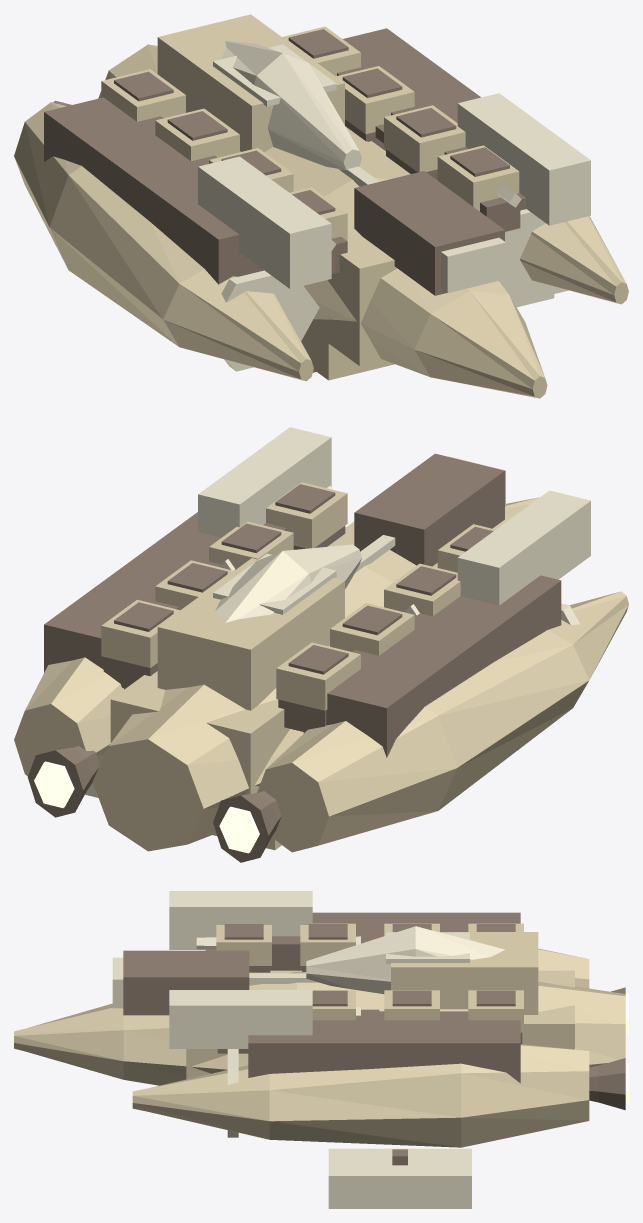
The picture shows the model from 3 angles, top to bottom: view 1: azimuth 30°, elevation 25°; view 2: azimuth 150°, elevation 25°; view 3: azimuth 270°, elevation 25°; orthographic projection. The views are drawn at different scales.
Bounding box in the file's own units: 14.72 × 8.43 × 23.42.
